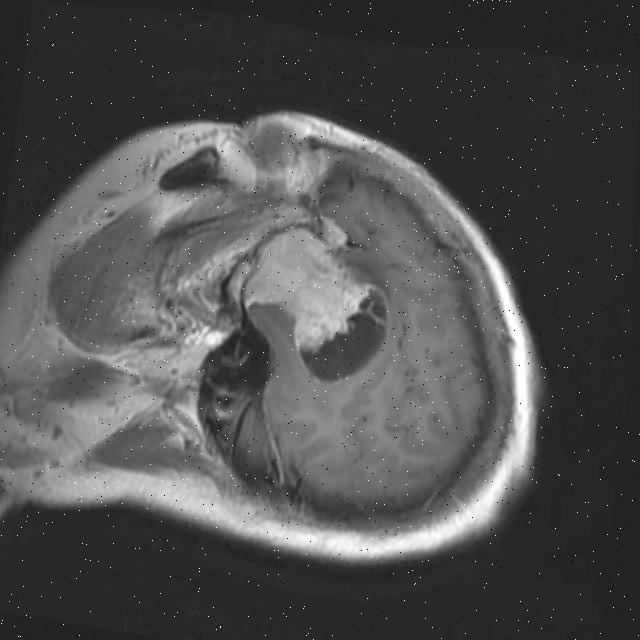Meningioma: (237, 198, 382, 357)
